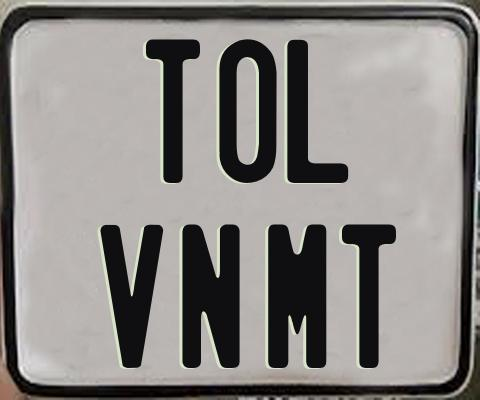0: (218, 36, 281, 181)
L: (287, 37, 350, 180)
M: (265, 224, 323, 374)
N: (182, 221, 246, 366)
T: (143, 36, 198, 183), (340, 224, 395, 368)
V: (99, 224, 168, 369)
